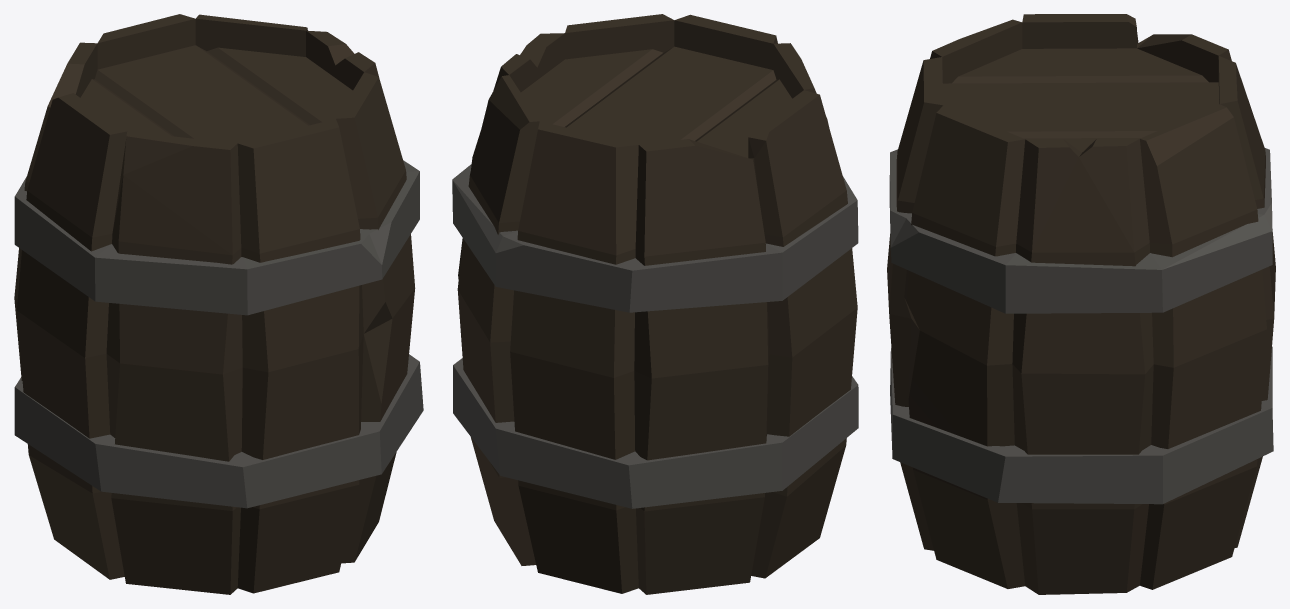
Rendered from barrel.glb.
3 renders of one model, left to right at view 1: azimuth 30°, elevation 25°; view 2: azimuth 150°, elevation 25°; view 3: azimuth 270°, elevation 25°, orthographic.
Visible parts, largest first — view 1: SM_Prop_Barrel_01; view 2: SM_Prop_Barrel_01; view 3: SM_Prop_Barrel_01.
Boxes of the visible parts, x1,y1,x2,y2 form: SM_Prop_Barrel_01: [14, 14, 423, 594]; SM_Prop_Barrel_01: [452, 14, 858, 594]; SM_Prop_Barrel_01: [887, 14, 1275, 594].
Bounding box in the file's own units: 0.7176 × 0.9098 × 0.7176.
Materials: 1 (1 with a texture image).
